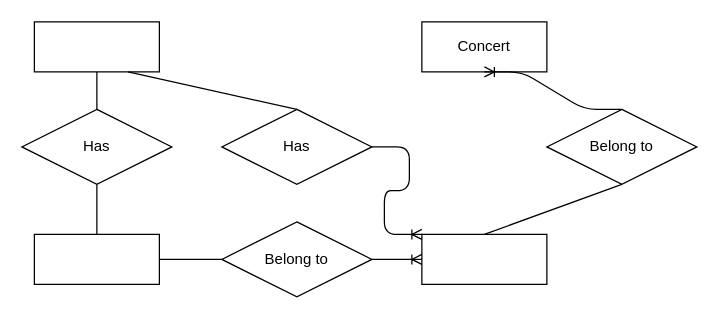
The diagram is 719 pixels wide and 319 high, and some of its shapes have lost their labels. The centre of each missing label's shape, as x and y in pixels:
"History" goes at [96,258].
"Order" goes at [484,258].
"User" goes at [96,46].
